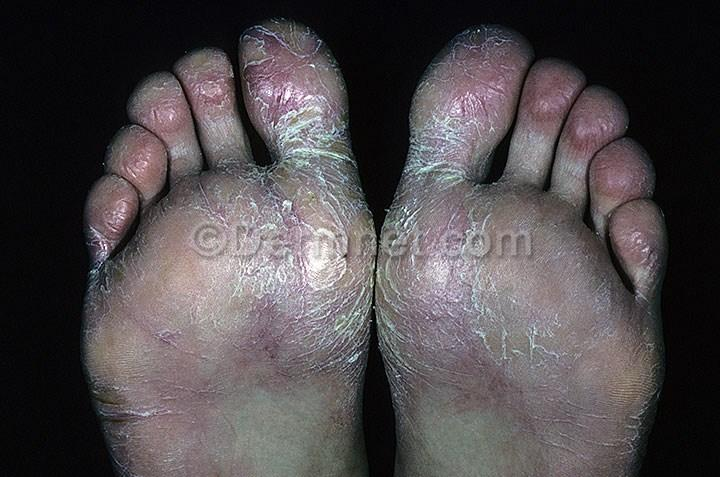Eczema: (235, 11, 370, 192), (559, 271, 667, 476), (219, 261, 355, 393), (360, 251, 523, 351), (75, 209, 180, 334), (394, 129, 527, 223), (82, 373, 185, 474)
